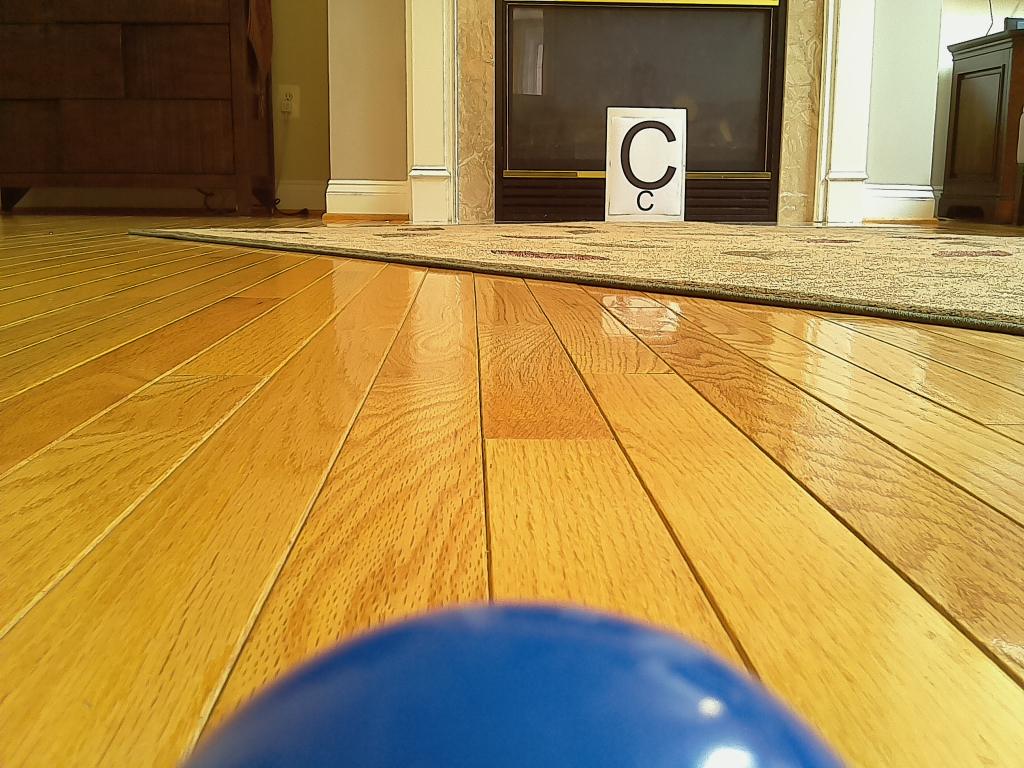letter: (622, 121, 676, 191)
